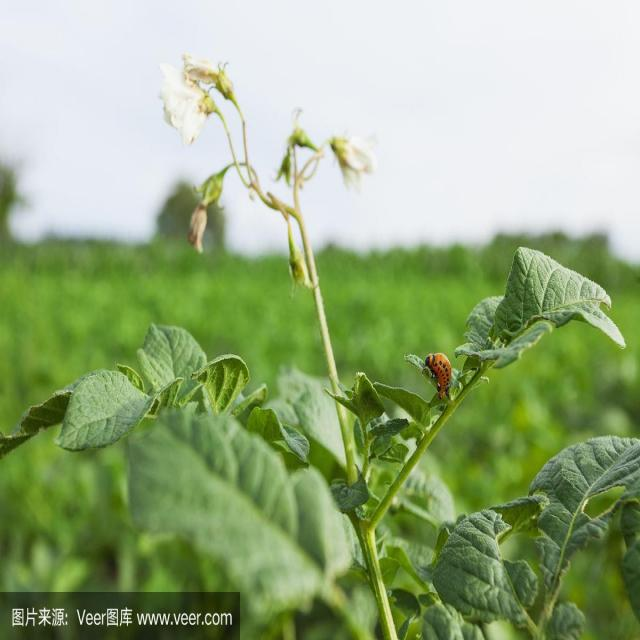ShuCaiHuaBanChong-Larva-: (419, 351, 464, 403)
